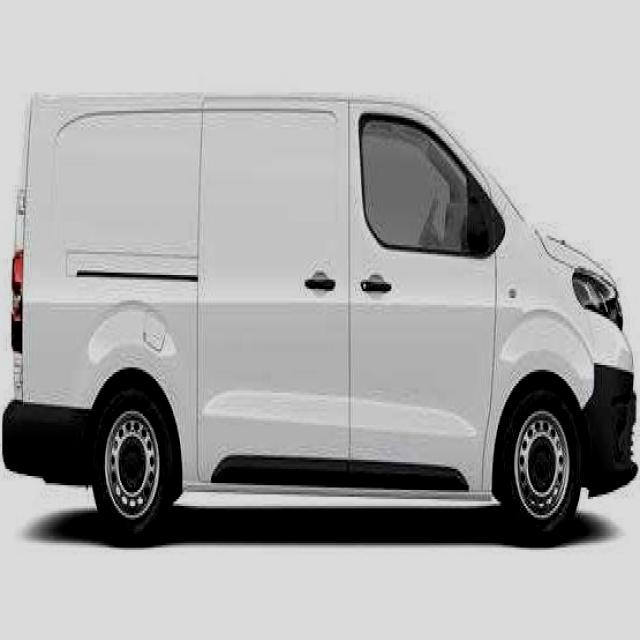Van: (3, 63, 635, 550)
